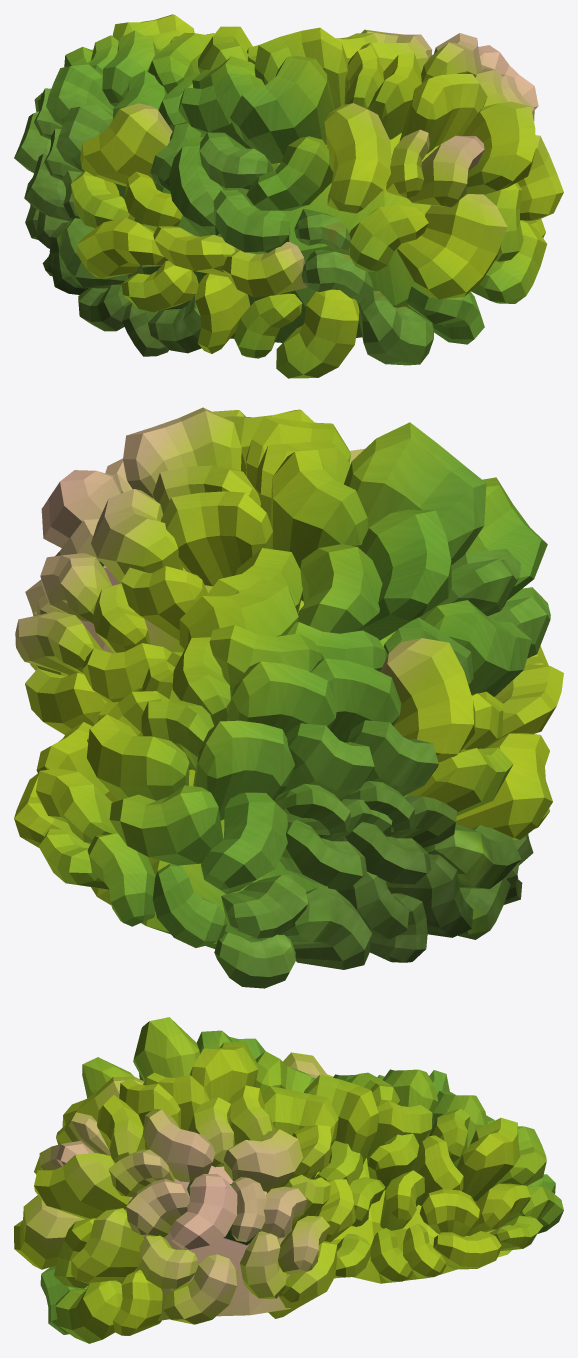
Rendered from plant_55.fbx.
The picture shows the model from 3 angles, top to bottom: view 1: azimuth 30°, elevation 25°; view 2: azimuth 150°, elevation 25°; view 3: azimuth 270°, elevation 25°; orthographic projection. The views are drawn at different scales.
Visible parts, largest first — view 1: shanhu_04_coral_q0020; view 2: shanhu_04_coral_q0020; view 3: shanhu_04_coral_q0020.
Boxes of the visible parts, <box> form: shanhu_04_coral_q0020: <box>14,14,563,378</box>; shanhu_04_coral_q0020: <box>14,407,563,988</box>; shanhu_04_coral_q0020: <box>14,1017,563,1343</box>.
Size of the model in its own units: 1.32 by 0.9072 by 1.6.
